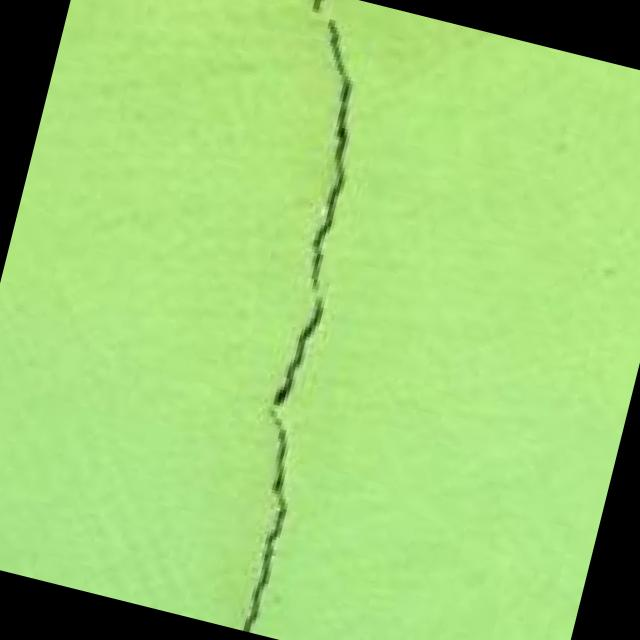crack: (146, 0, 468, 640)
